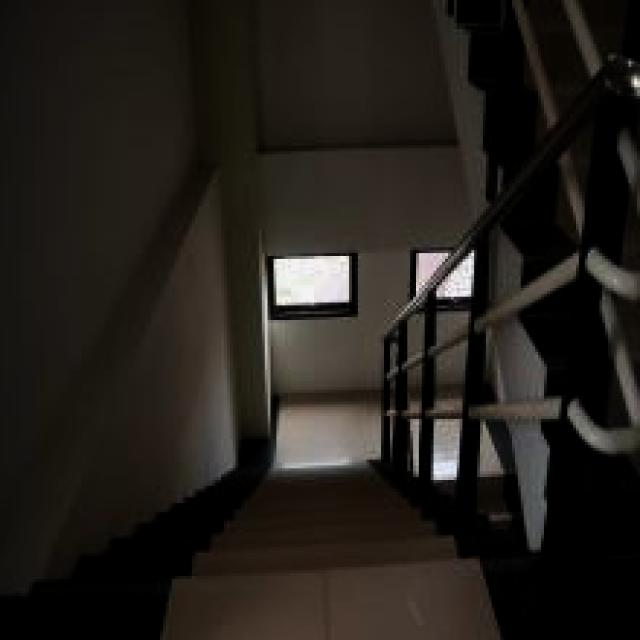downstair: (202, 487, 446, 640)
